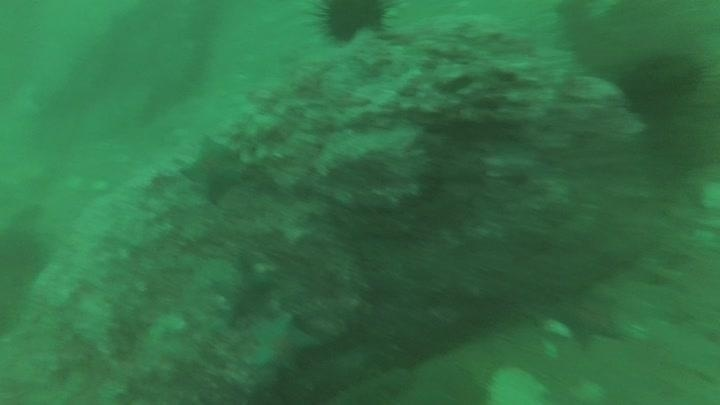echinus: (617, 47, 706, 122), (310, 1, 393, 47), (1, 223, 50, 281)
scallop: (484, 363, 551, 405)
starfish: (244, 311, 322, 378), (177, 134, 248, 205), (208, 252, 278, 322), (551, 285, 628, 347)
